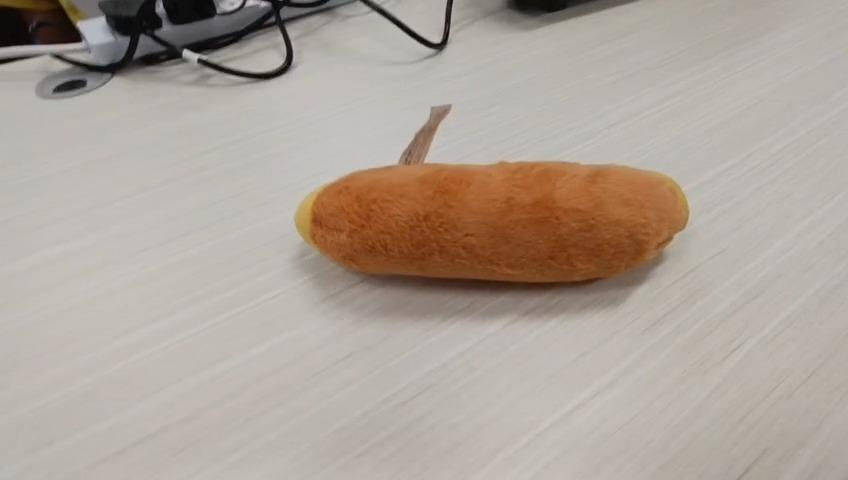hotdog: (293, 103, 690, 284)
